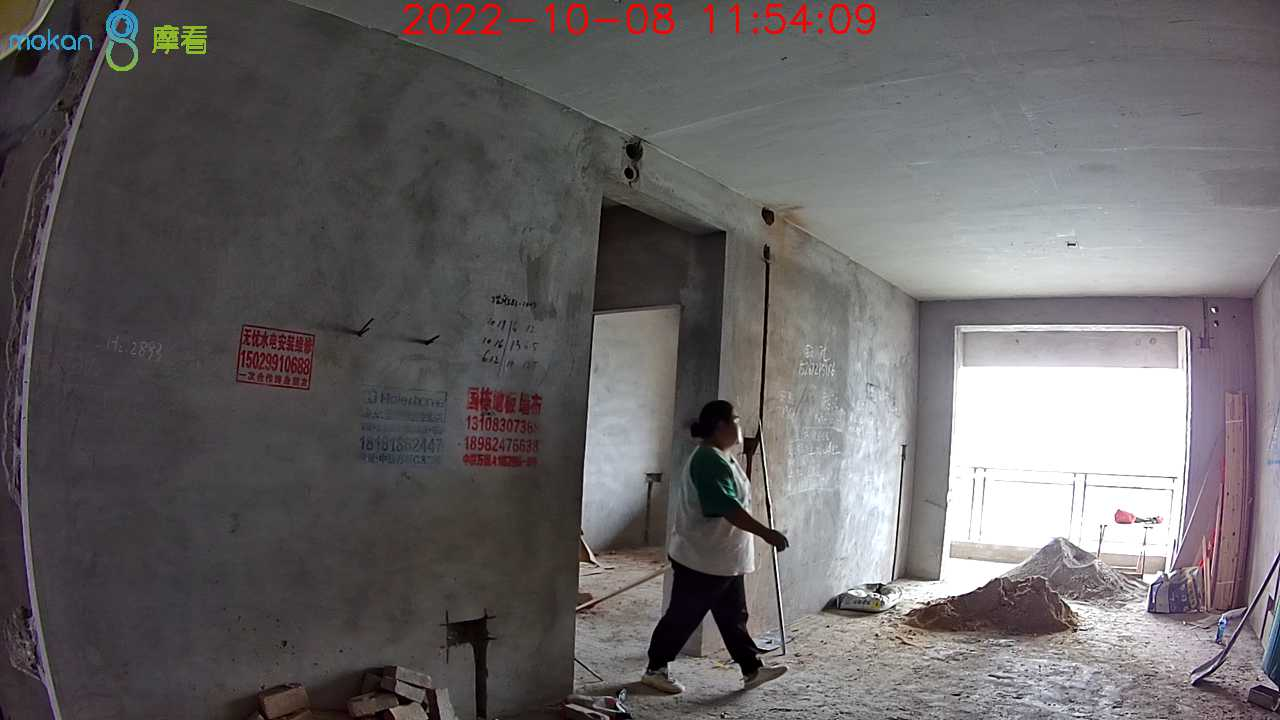people: (641, 401, 791, 695)
window: (955, 365, 1181, 560)
